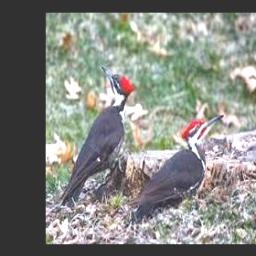Woodpecker: (55, 67, 135, 211), (126, 114, 223, 213)
